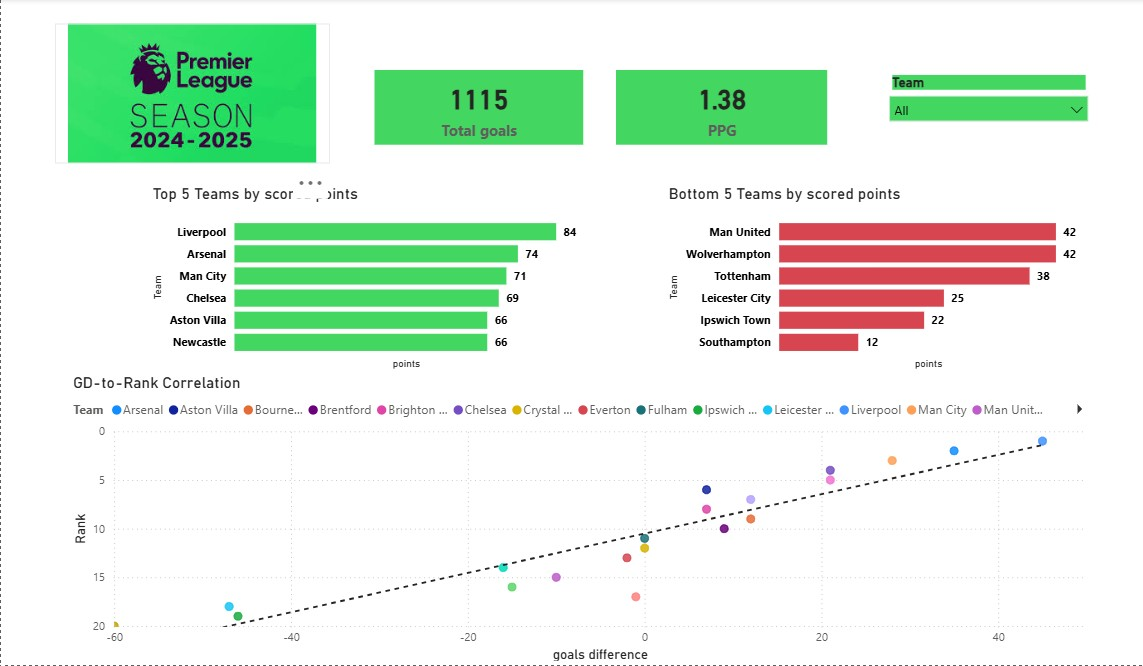

Layout of this report page (visuals, bound fields, positions):
{"tool":"powerbi","page":{"name":"Page 1","canvas":[1280,720],"ordinal":0},"visuals":[{"type":"barChart","title":"Top 5 Teams by scored points","fields":{"Y":["Sum(public premier_league_standings.points)"],"Category":["public premier_league_standings.short_name"]},"box":[158.7,200.8,469.6,204],"z":0},{"type":"barChart","title":"Bottom 5 Teams by scored points","fields":{"Y":["Sum(public premier_league_standings.points)"],"Category":["public premier_league_standings.short_name"]},"box":[715.7,200.8,451.8,204],"z":1000},{"type":"card","fields":{"Values":["public premier_league_standings.Total goals"]},"box":[403.2,77.7,225.1,81],"z":2000},{"type":"scatterChart","title":"GD-to-Rank Correlation","fields":{"X":["public premier_league_standings.goal_difference"],"Y":["public premier_league_standings.Rank"],"Series":["public premier_league_standings.short_name"]},"box":[72.9,404.8,1110.8,315.7],"z":4000},{"type":"card","fields":{"Values":["public premier_league_standings.PPG"]},"box":[663.9,77.7,228.3,81],"z":5000},{"type":"slicer","fields":{"Values":["public premier_league_standings.short_name"]},"box":[948.9,77.7,234.8,81],"z":6000},{"type":"image","box":[58.3,27.5,296.3,150.6],"z":6001}]}

Visuals, with their boxes on the page's 1280x720 design canvas (x1, y1, x2, y2). These are canvas units, not pixel positions in the 1143x666 screenshot, which may show the page scaled, cropped or inside an application window:
"Top 5 Teams by scored points" barChart: region(159, 201, 628, 405)
"Bottom 5 Teams by scored points" barChart: region(716, 201, 1168, 405)
card - public premier_league_standings.Total goals: region(403, 78, 628, 159)
"GD-to-Rank Correlation" scatterChart: region(73, 405, 1184, 720)
card - public premier_league_standings.PPG: region(664, 78, 892, 159)
slicer - public premier_league_standings.short_name: region(949, 78, 1184, 159)
image: region(58, 28, 355, 178)
